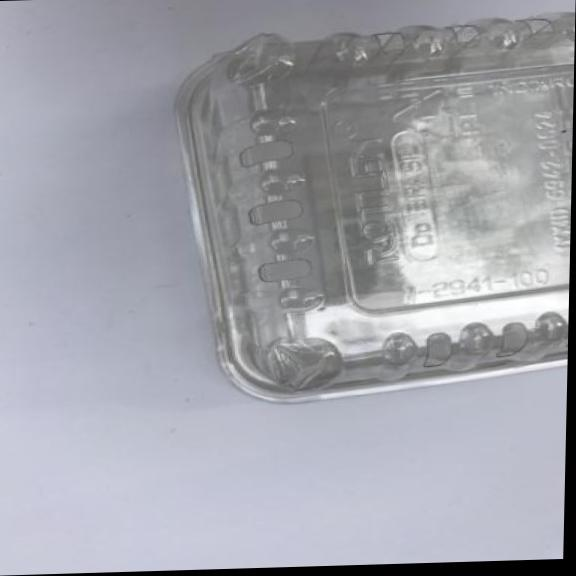Plastik: (166, 6, 575, 413)
